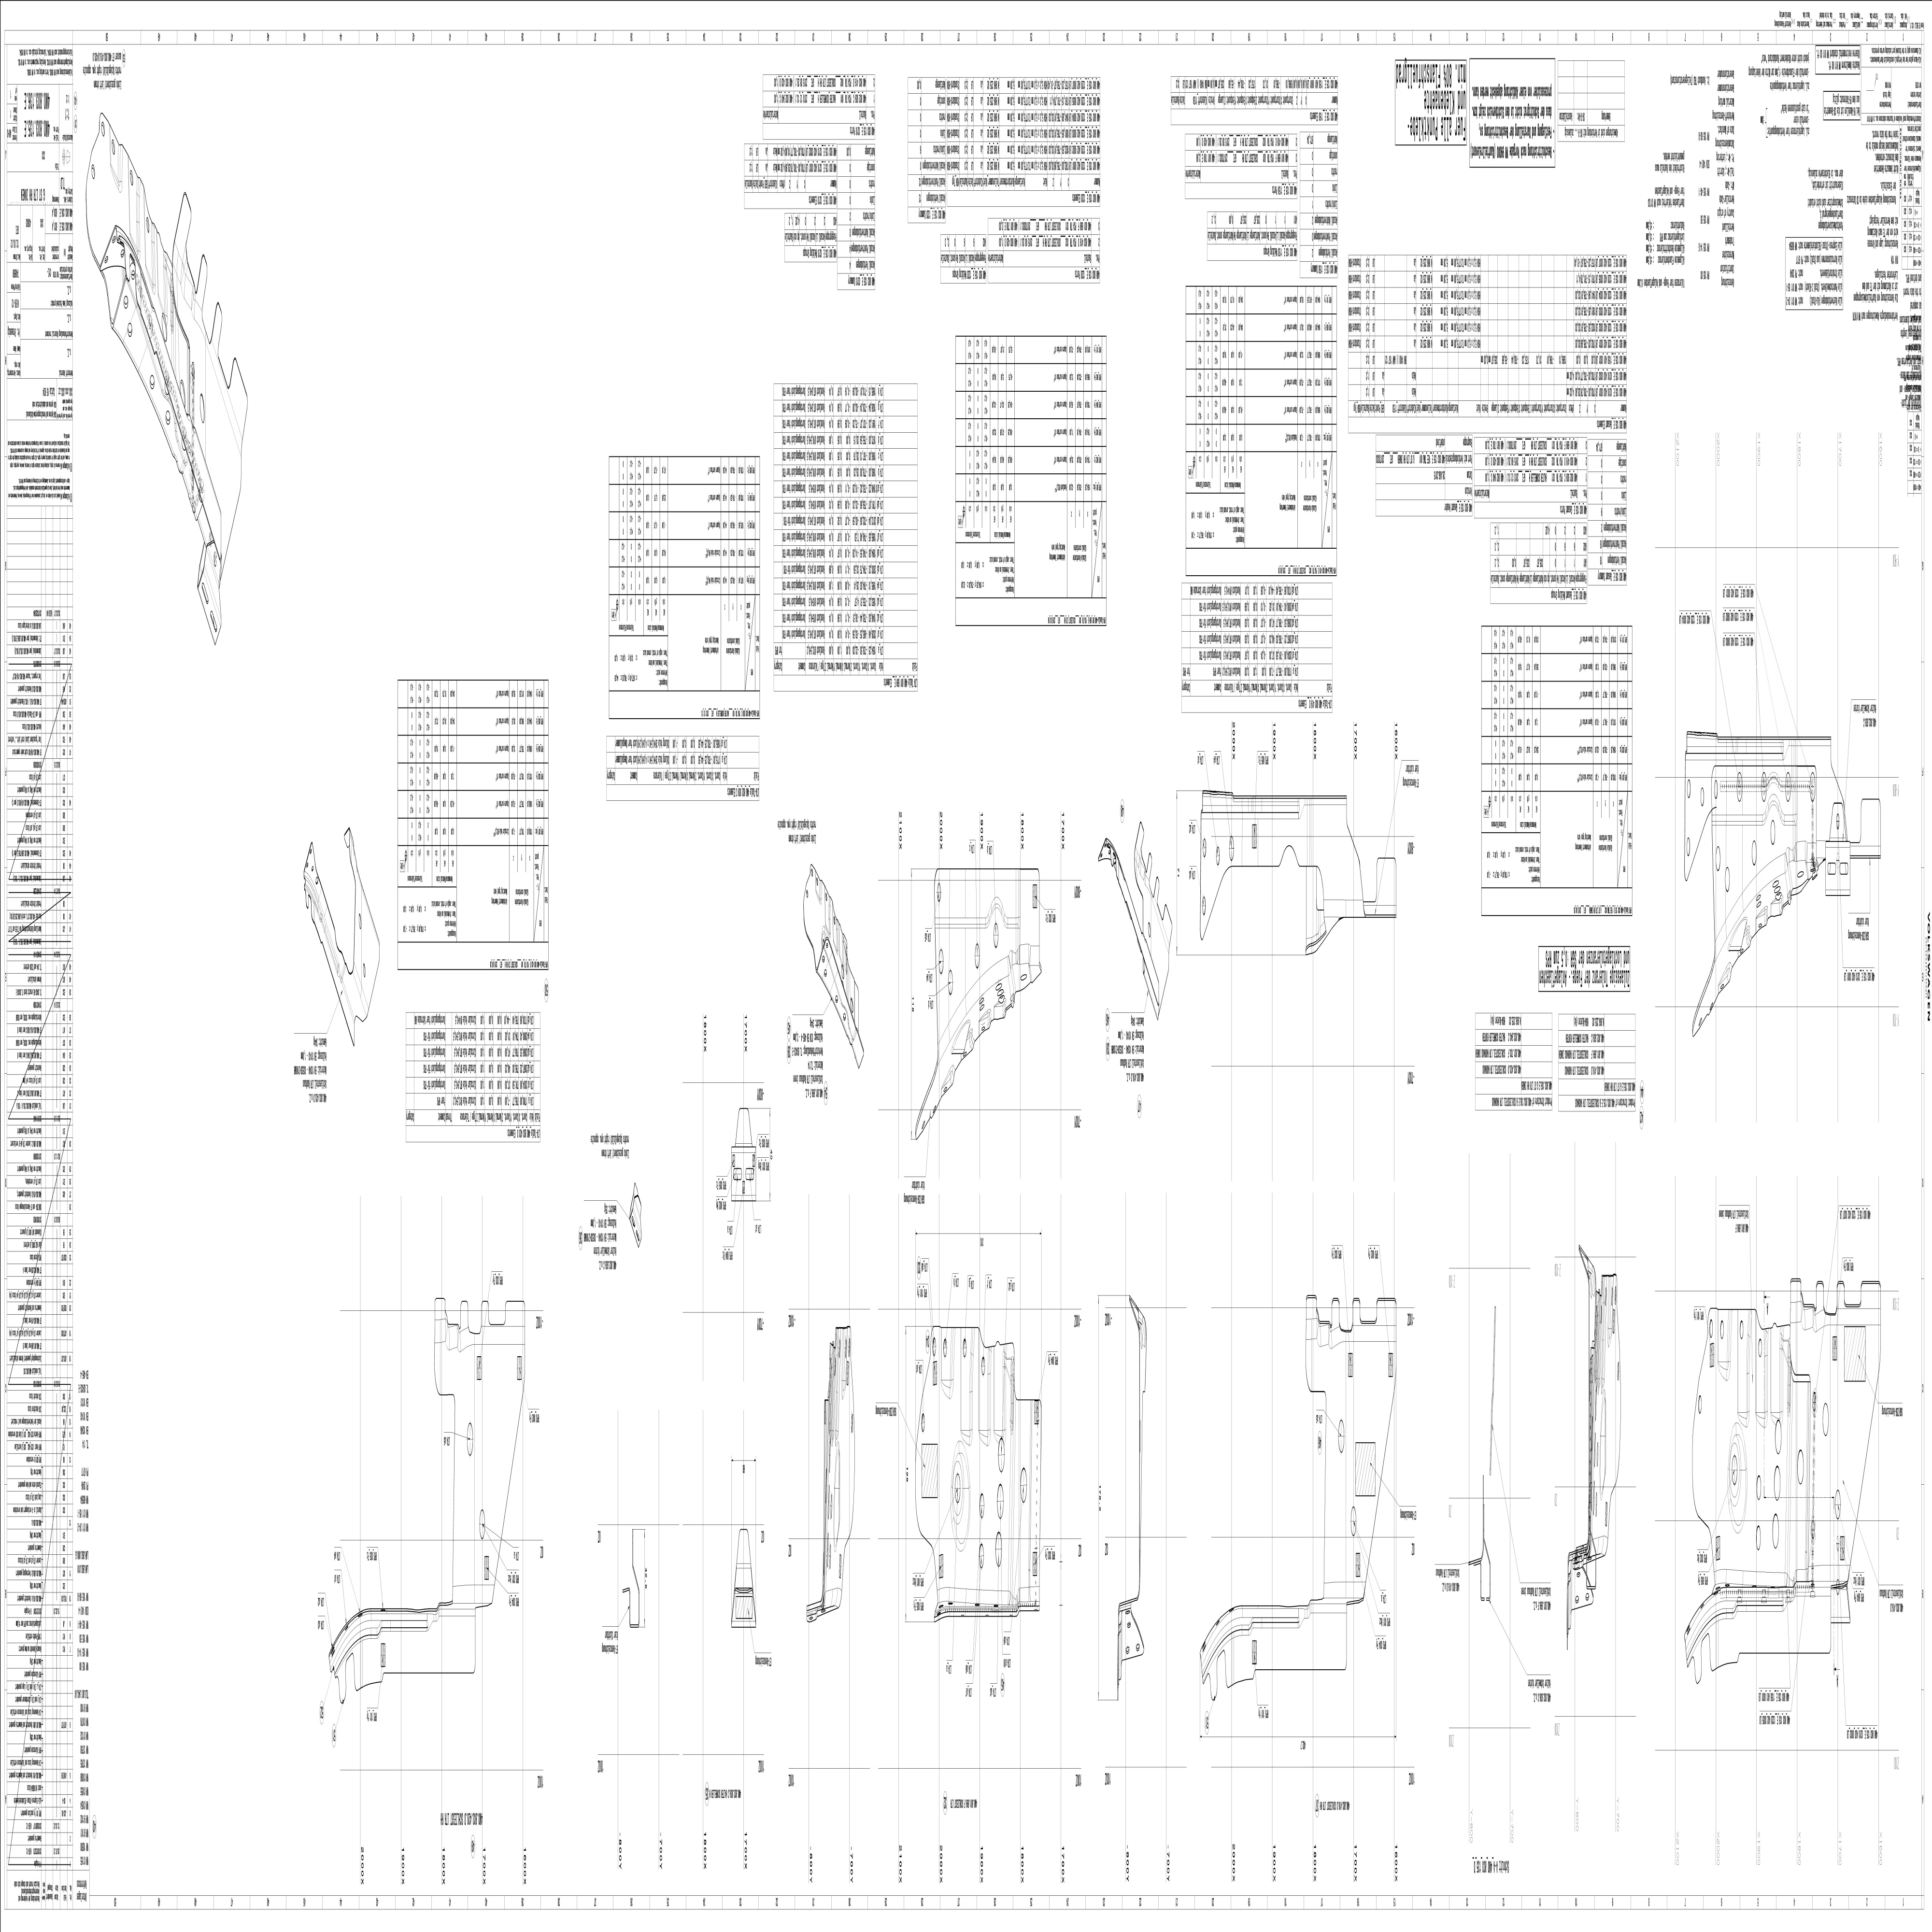Embossment: (126, 156, 142, 257), (143, 184, 157, 297), (108, 124, 124, 193), (824, 885, 832, 939), (814, 870, 823, 906)
InnerContour: (1336, 1417, 1346, 1454), (993, 1530, 1003, 1568), (1019, 1467, 1028, 1504), (996, 1483, 1005, 1520), (996, 1437, 1005, 1472), (465, 1421, 474, 1456), (478, 1507, 487, 1541), (971, 943, 982, 970), (1350, 1506, 1359, 1536), (1775, 1419, 1782, 1456), (1798, 1447, 1805, 1484), (1821, 1401, 1828, 1437), (1773, 1513, 1780, 1548), (1775, 1465, 1782, 1500), (1226, 837, 1237, 860), (1835, 1488, 1842, 1520), (993, 922, 1000, 950), (1723, 865, 1730, 893), (1755, 1523, 1762, 1552), (947, 968, 954, 994), (1714, 846, 1721, 872), (977, 1543, 984, 1569), (978, 1491, 985, 1518), (939, 947, 945, 975), (1771, 819, 1776, 847), (126, 322, 134, 338), (1707, 1318, 1714, 1338), (941, 1338, 948, 1357), (1752, 840, 1757, 865), (149, 373, 156, 391), (936, 881, 941, 902), (1201, 837, 1207, 858), (1812, 1391, 1817, 1412), (1739, 1318, 1744, 1339), (1810, 1518, 1815, 1539), (980, 1355, 985, 1376), (1215, 846, 1221, 865), (1201, 895, 1207, 915), (1700, 787, 1706, 807), (1686, 778, 1691, 798), (1686, 837, 1691, 856), (1757, 1338, 1762, 1357), (1720, 1320, 1725, 1339), (1698, 1394, 1704, 1414), (920, 1412, 925, 1431), (962, 1338, 968, 1357), (932, 1338, 938, 1357), (90, 163, 96, 180), (129, 168, 134, 186), (357, 913, 363, 931), (1146, 920, 1152, 938), (122, 295, 129, 308), (101, 120, 106, 136), (361, 962, 366, 978), (1835, 814, 1840, 828), (833, 994, 840, 1003), (823, 968, 828, 978), (842, 1012, 847, 1023), (821, 955, 826, 964)
Notch: (175, 209, 216, 295), (211, 310, 242, 391), (196, 269, 223, 345), (1844, 800, 1863, 846), (1136, 832, 1155, 874), (1315, 1295, 1334, 1332), (1798, 1279, 1819, 1313), (1821, 1283, 1840, 1316), (442, 1297, 462, 1330), (1215, 1651, 1230, 1697), (1154, 881, 1169, 922), (465, 1300, 483, 1336), (1359, 1297, 1380, 1325), (1700, 1633, 1714, 1674), (1842, 1281, 1863, 1307), (1146, 860, 1161, 899), (1338, 1299, 1353, 1332), (487, 1299, 506, 1325), (345, 1652, 357, 1693), (308, 892, 313, 918)
